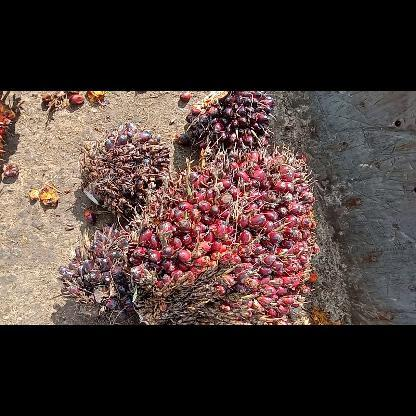TBS abnormal: (77, 125, 165, 213), (59, 224, 133, 322), (177, 90, 273, 148)
TBS masak: (131, 146, 317, 324)
